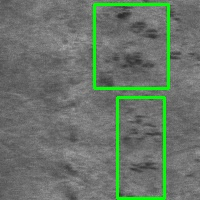rolled-in_scale: (94, 4, 168, 88), (117, 97, 164, 198)
